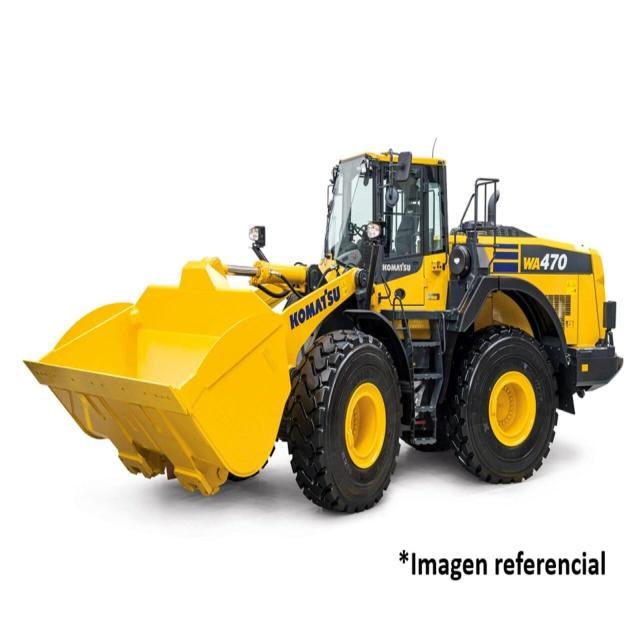buldozerpayloadergrader: (26, 126, 624, 516)
